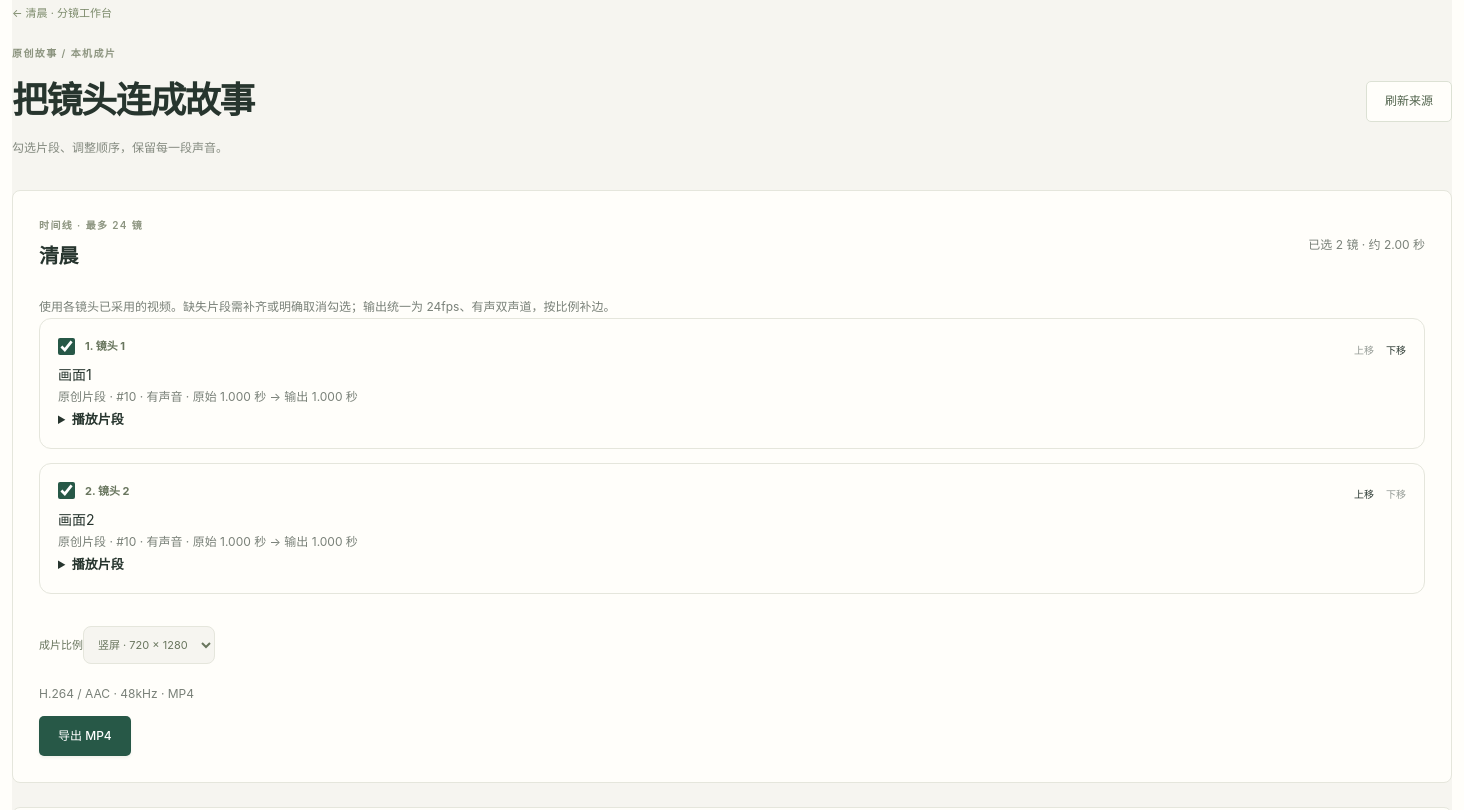
Scenario: 默认包含全部镜头，可排序且提交冻结顺序、来源令牌和规格，完成不重置草稿
This screenshot has width=1464, height=810.
Check: the button "导出 MP4" is enabled, box [39,716,131,756]
Click the button with aria-label "上移镜头2" at (1364, 495), box [1354,486,1374,504]
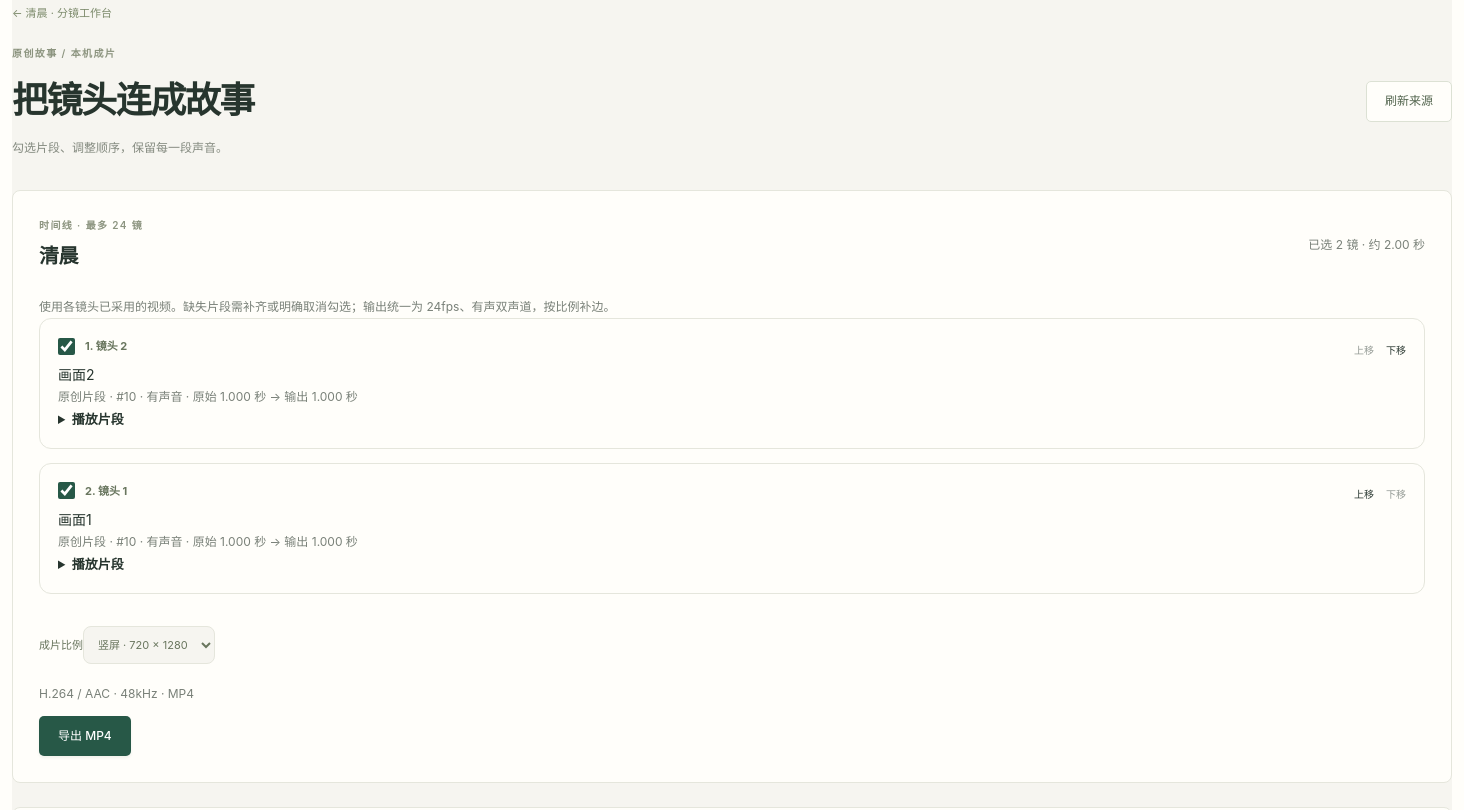
Select "横屏 · 1280 × 720" in the dropdown labelled "成片比例" at (149, 645), box [83,626,215,664]
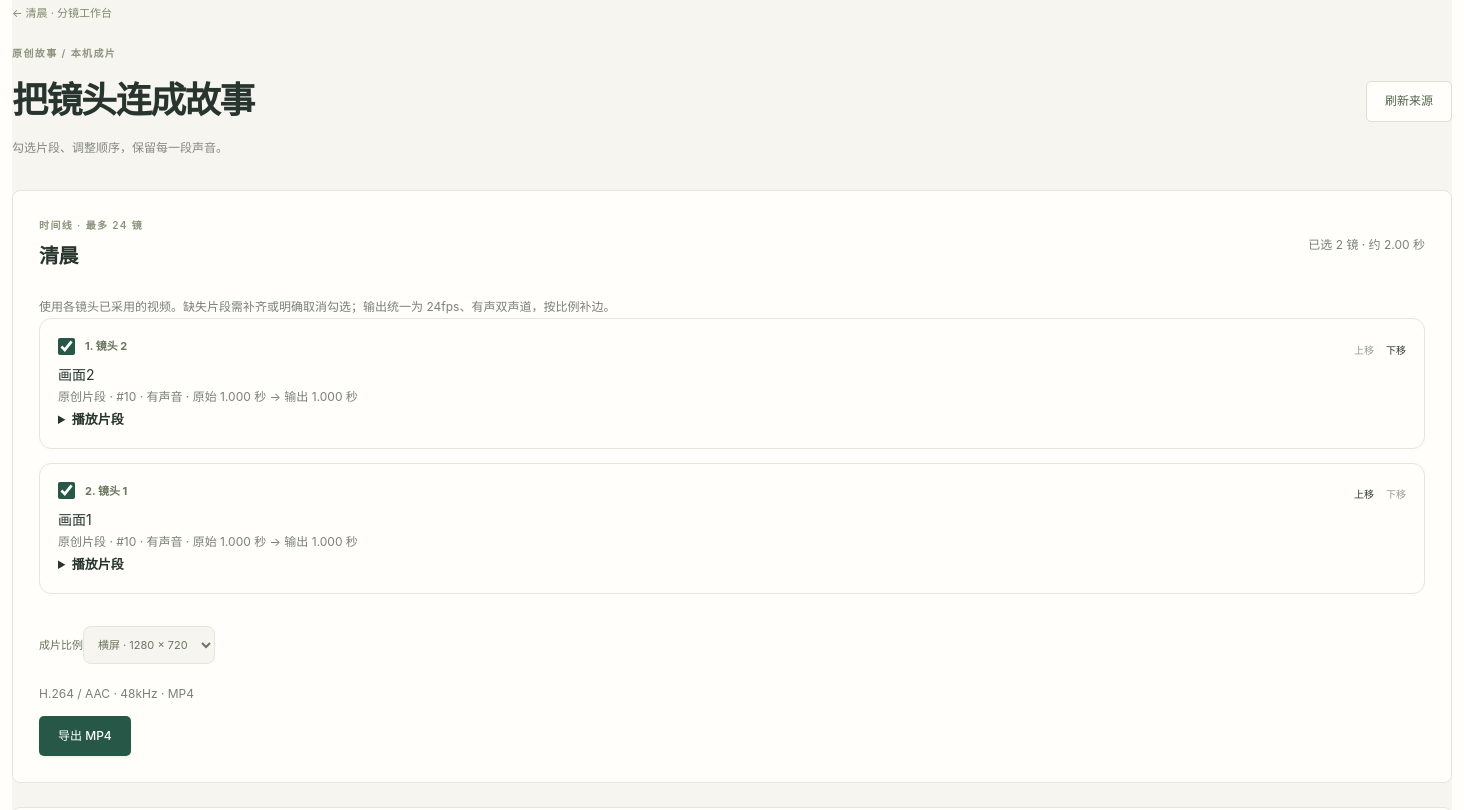
Click the button "导出 MP4" at (85, 736), box [39,716,131,756]
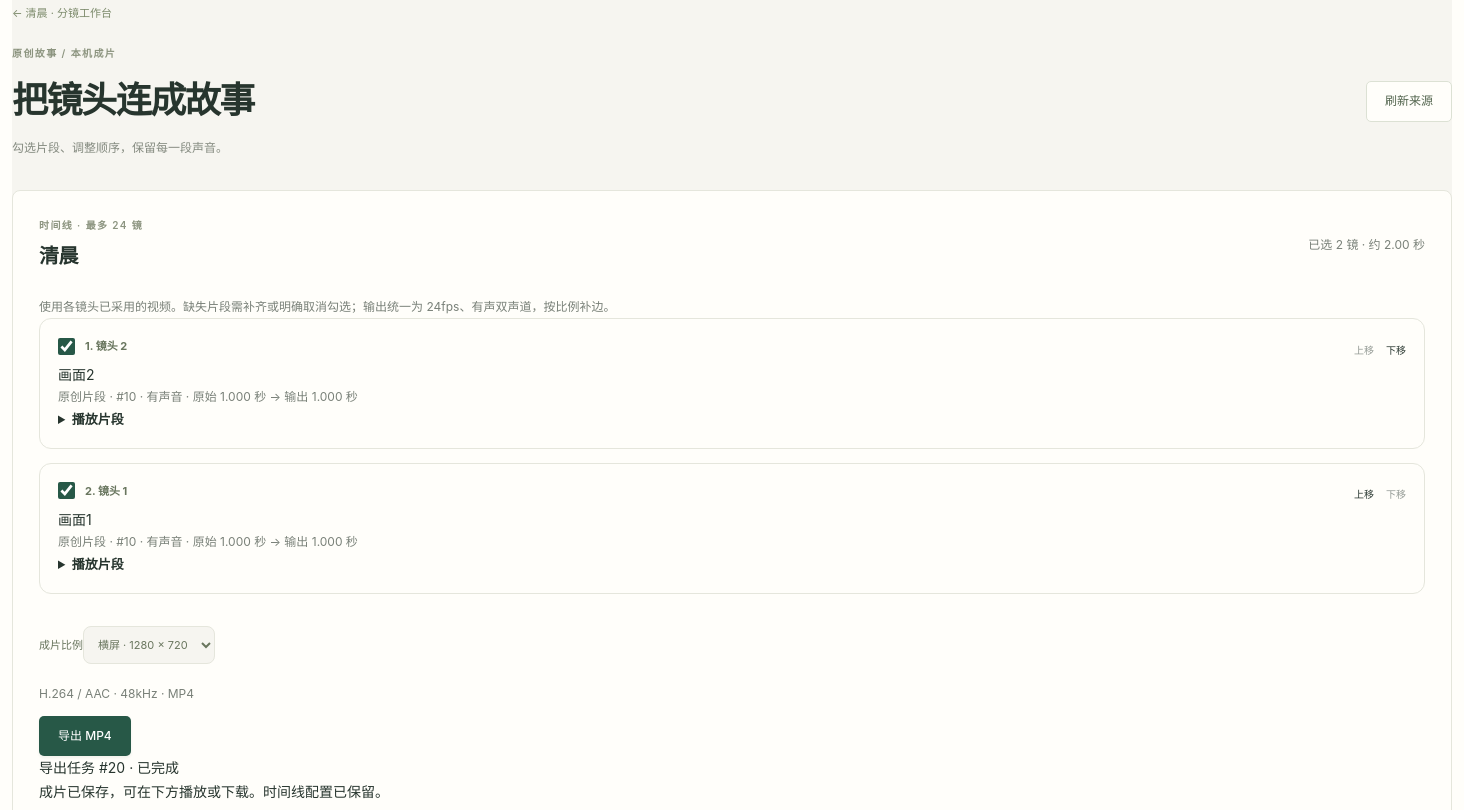
Check: the list item with test id "timeline-row" shows "画面2", box [58,366,94,383]
Check: the text "成片已保存，可在下方播放或下载。时间线配置已保留。" is shown, box [39,783,389,800]
